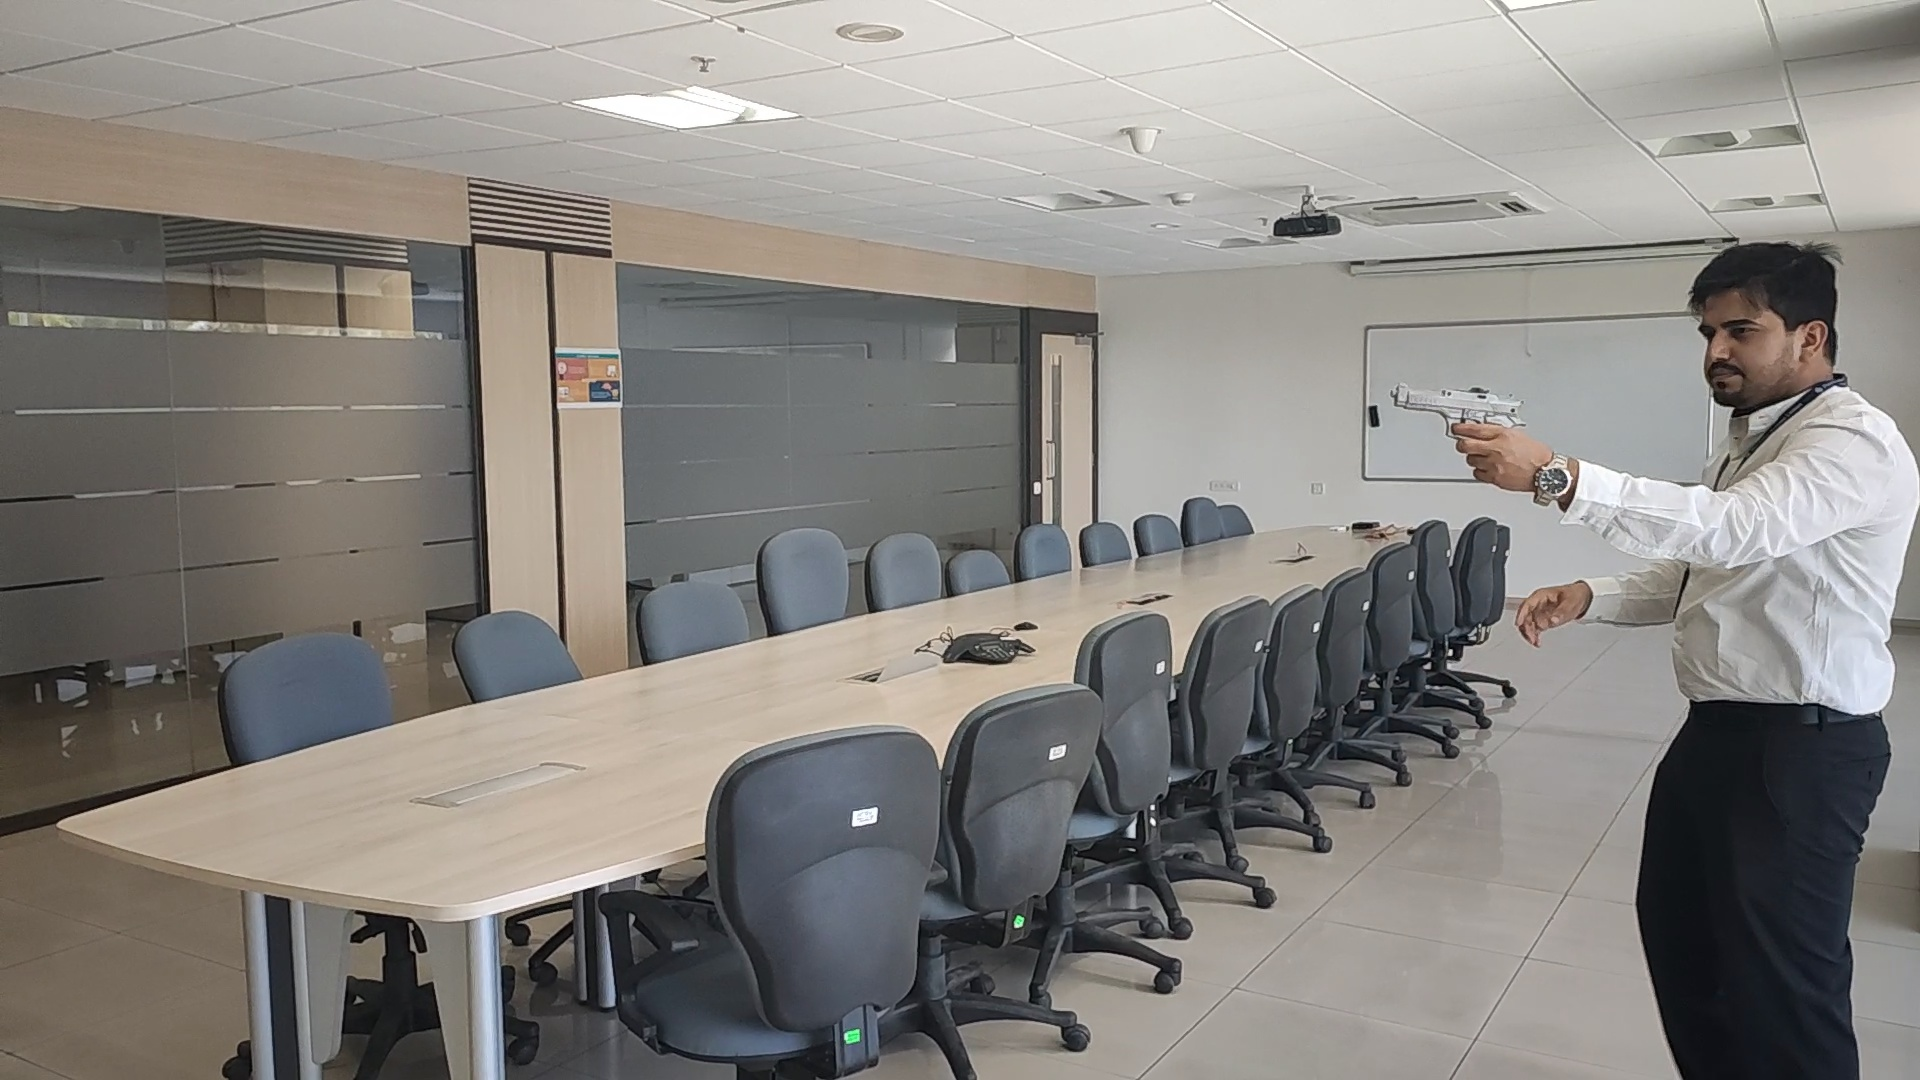knife: (1389, 380, 1528, 426)
